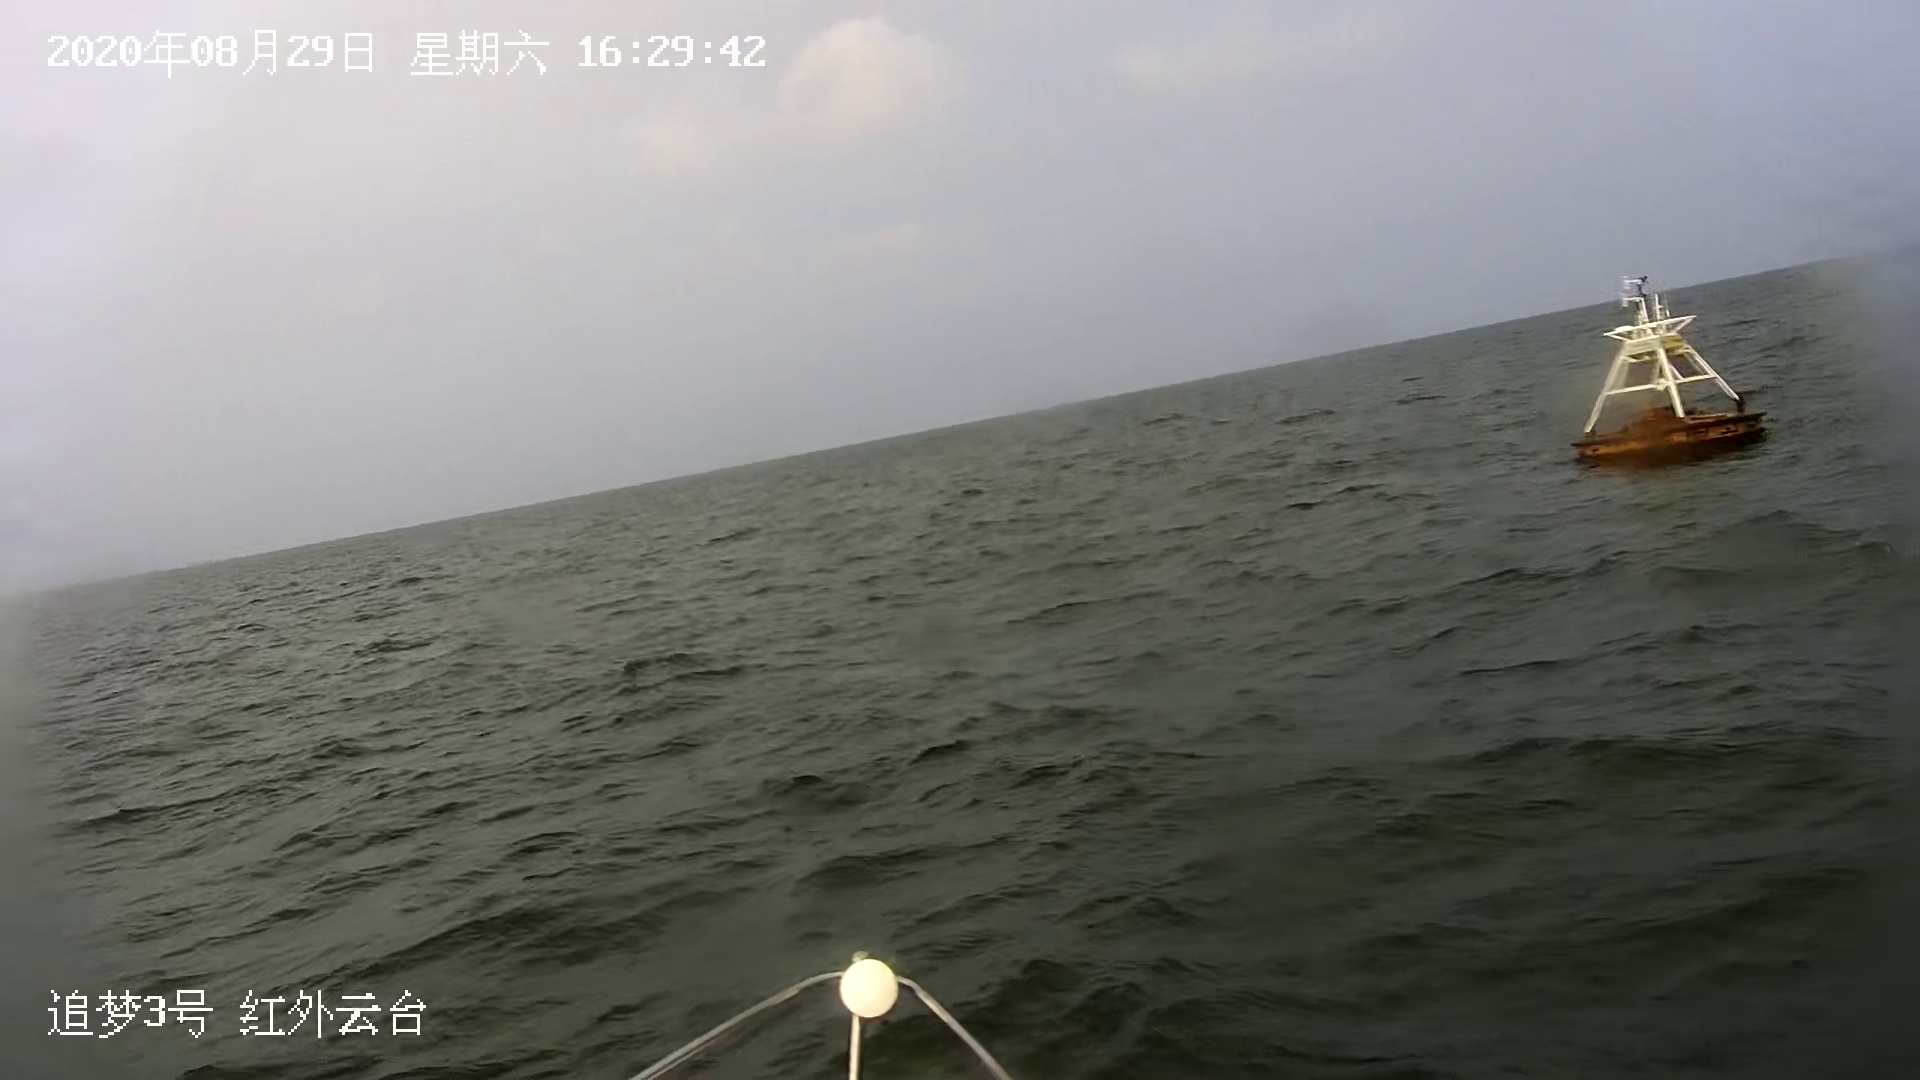barrier: (1576, 272, 1771, 469)
this: (632, 964, 1015, 1079)
